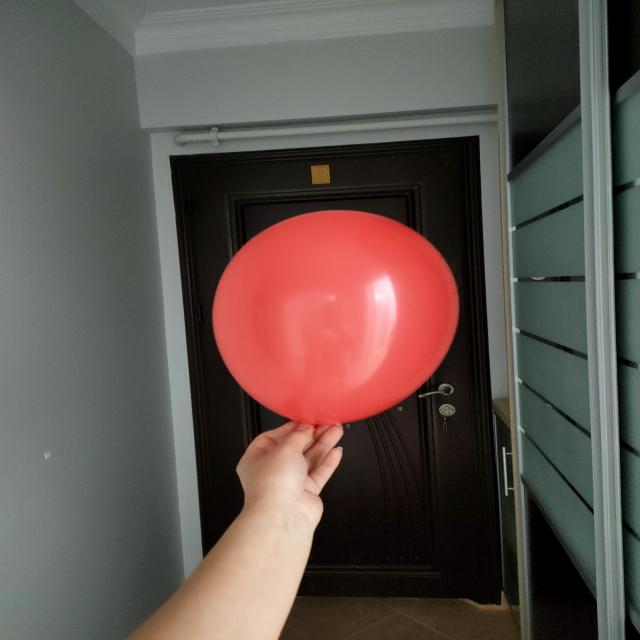red: (214, 213, 461, 427)
